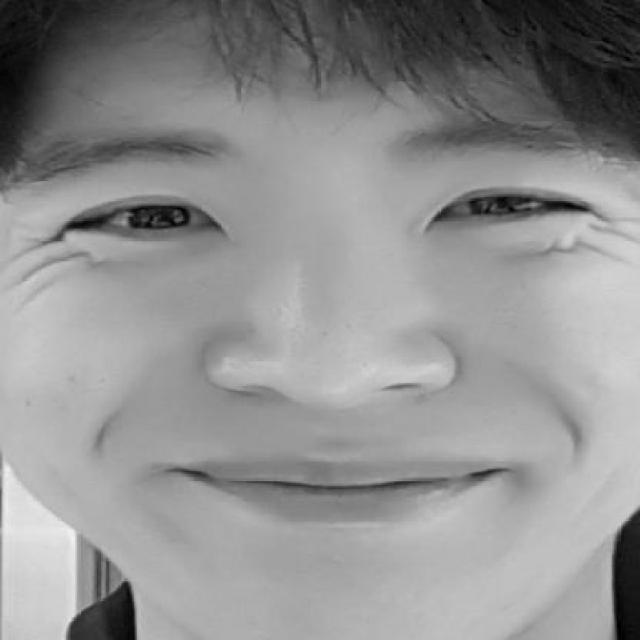happy: (28, 112, 629, 552)
